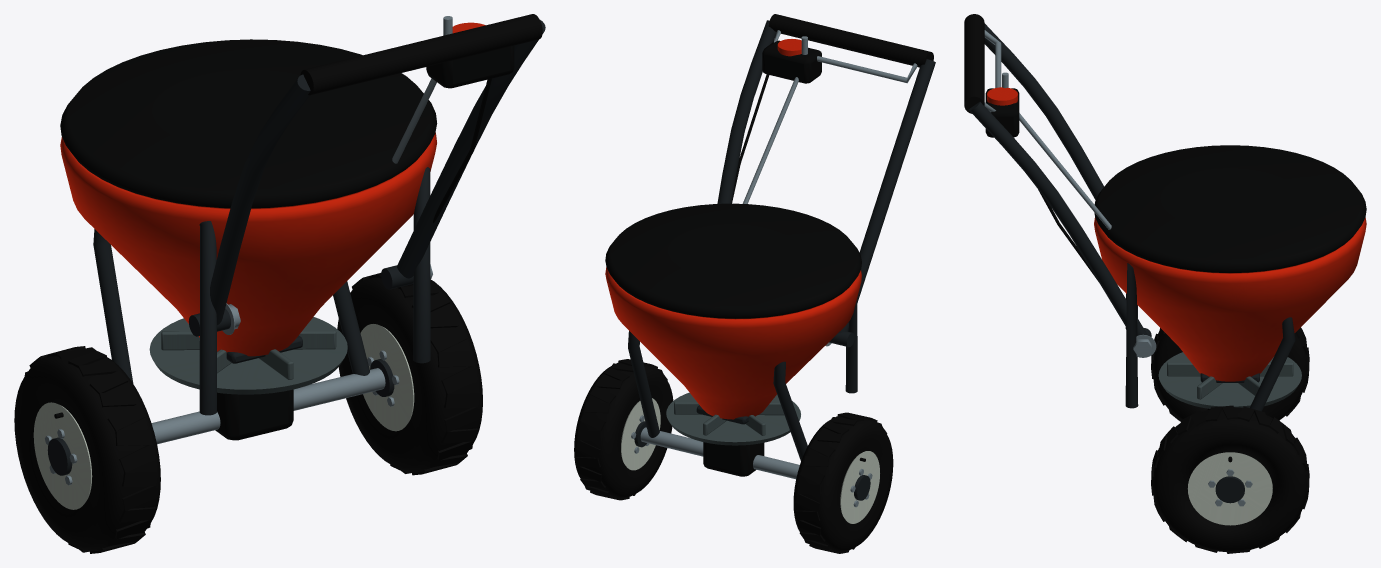
The model's file is BroadcastSpreader.gltf.
3 renders of one model, left to right at view 1: azimuth 30°, elevation 25°; view 2: azimuth 150°, elevation 25°; view 3: azimuth 270°, elevation 25°, orthographic. The views are drawn at different scales.
Visible parts, largest first — view 1: BroadcastSpreader__Body, BroadcastSpreader__Wheel_-1, BroadcastSpreader, BroadcastSpreader__CutterRotor; view 2: BroadcastSpreader__Body, BroadcastSpreader__Wheel_-1, BroadcastSpreader, BroadcastSpreader__CutterRotor; view 3: BroadcastSpreader__Body, BroadcastSpreader, BroadcastSpreader__CutterRotor, BroadcastSpreader__Wheel_-1.
Part boxes in pixels (<box>): BroadcastSpreader__Body: <box>60,14,545,444</box>; BroadcastSpreader__Wheel_-1: <box>14,346,160,553</box>; BroadcastSpreader: <box>337,273,482,475</box>; BroadcastSpreader__CutterRotor: <box>149,317,347,394</box>; BroadcastSpreader__Body: <box>605,14,935,479</box>; BroadcastSpreader__Wheel_-1: <box>793,412,893,553</box>; BroadcastSpreader: <box>574,359,673,500</box>; BroadcastSpreader__CutterRotor: <box>666,392,800,445</box>; BroadcastSpreader__Body: <box>964,14,1366,411</box>; BroadcastSpreader: <box>1151,405,1309,553</box>; BroadcastSpreader__CutterRotor: <box>1158,352,1301,408</box>; BroadcastSpreader__Wheel_-1: <box>1151,327,1309,421</box>.
Size of the model in its own units: 0.6897 by 1 by 0.84.
1 material, 1 textured.
